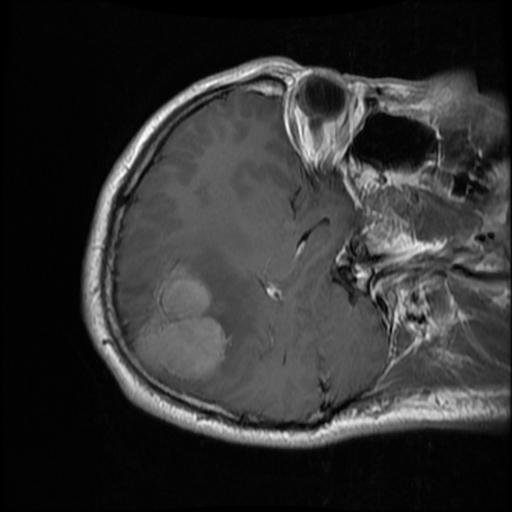meningioma: (134, 266, 229, 384)
